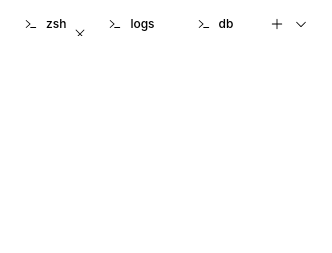
Test: TabStrip › opens the context menu with shortcut hints on right-click
Right-click the tab "logs" at (140, 24), box [96, 16, 183, 32]
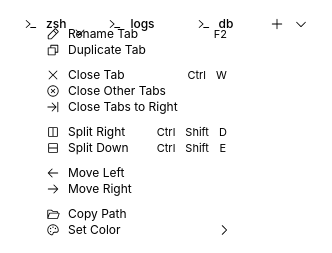
Check: the menu item "Rename Tab F2" is shown, box [38, 26, 239, 42]
Check: the element named "Ctrl+W" is shown, box [187, 68, 227, 82]
